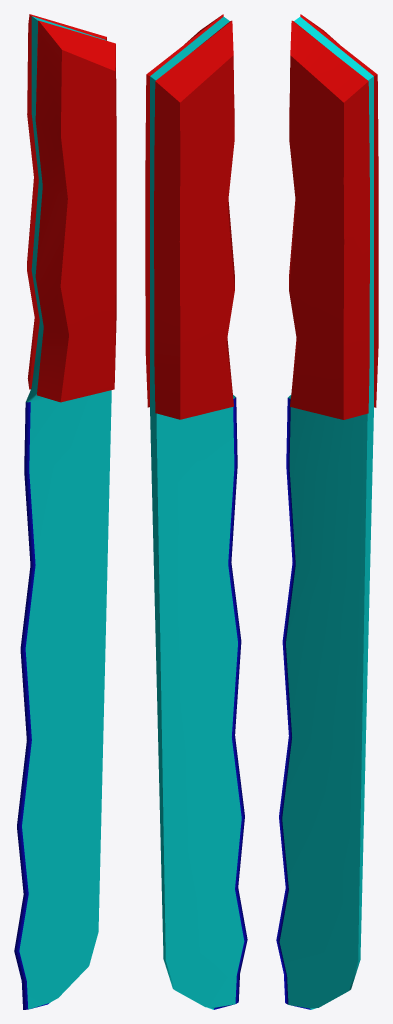
The model's file is bread_knife.fbx.
3 views of the same model, side by side, from view 1: azimuth 30°, elevation 25°; view 2: azimuth 210°, elevation 25°; view 3: azimuth 330°, elevation 25° (orthographic).
Parts seen in each view (by area): view 1: Bread_Knife; view 2: Bread_Knife; view 3: Bread_Knife.
Part boxes in pixels (<box>): Bread_Knife: <box>14,14,116,1009</box>; Bread_Knife: <box>145,14,247,1009</box>; Bread_Knife: <box>276,14,378,1009</box>.
Bounding box in the file's own units: 0.2185 × 2.11 × 0.1301.
